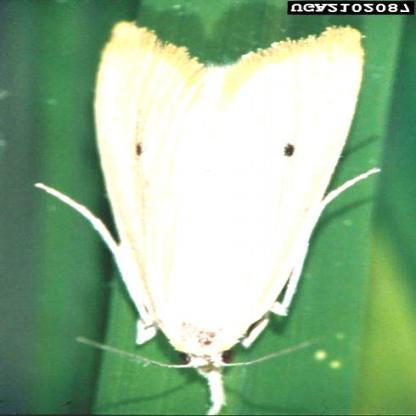stem-borer: (62, 17, 376, 416)
